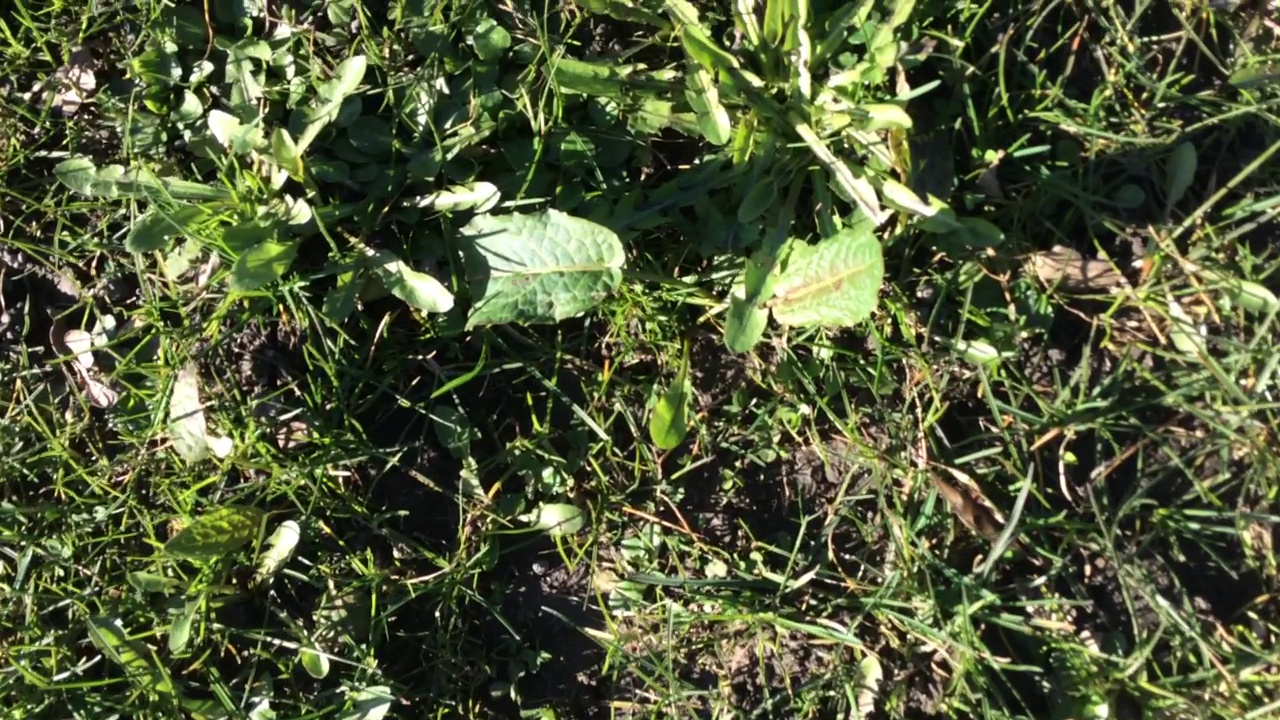rumex: (442, 207, 626, 327), (756, 233, 884, 330)
